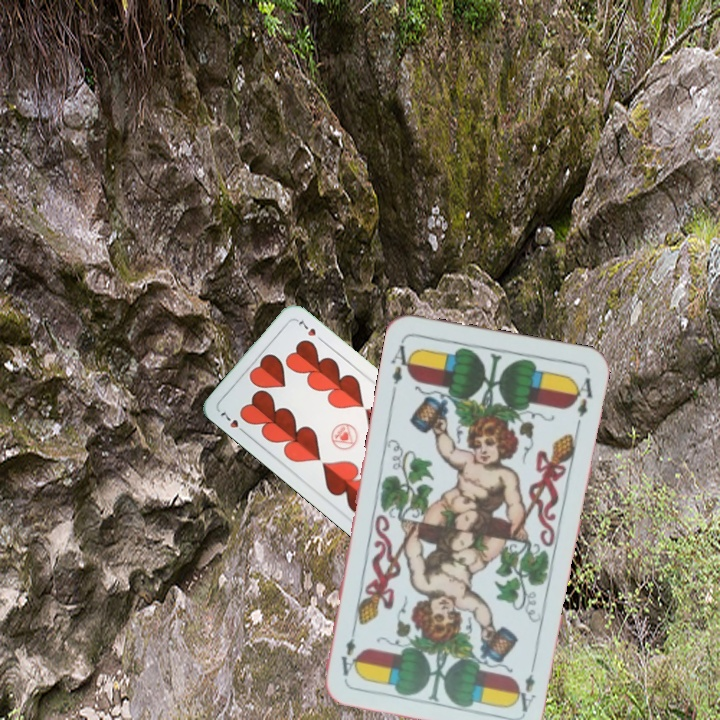EA: (387, 337, 417, 387), (514, 656, 539, 715)
H7: (216, 406, 249, 437)
